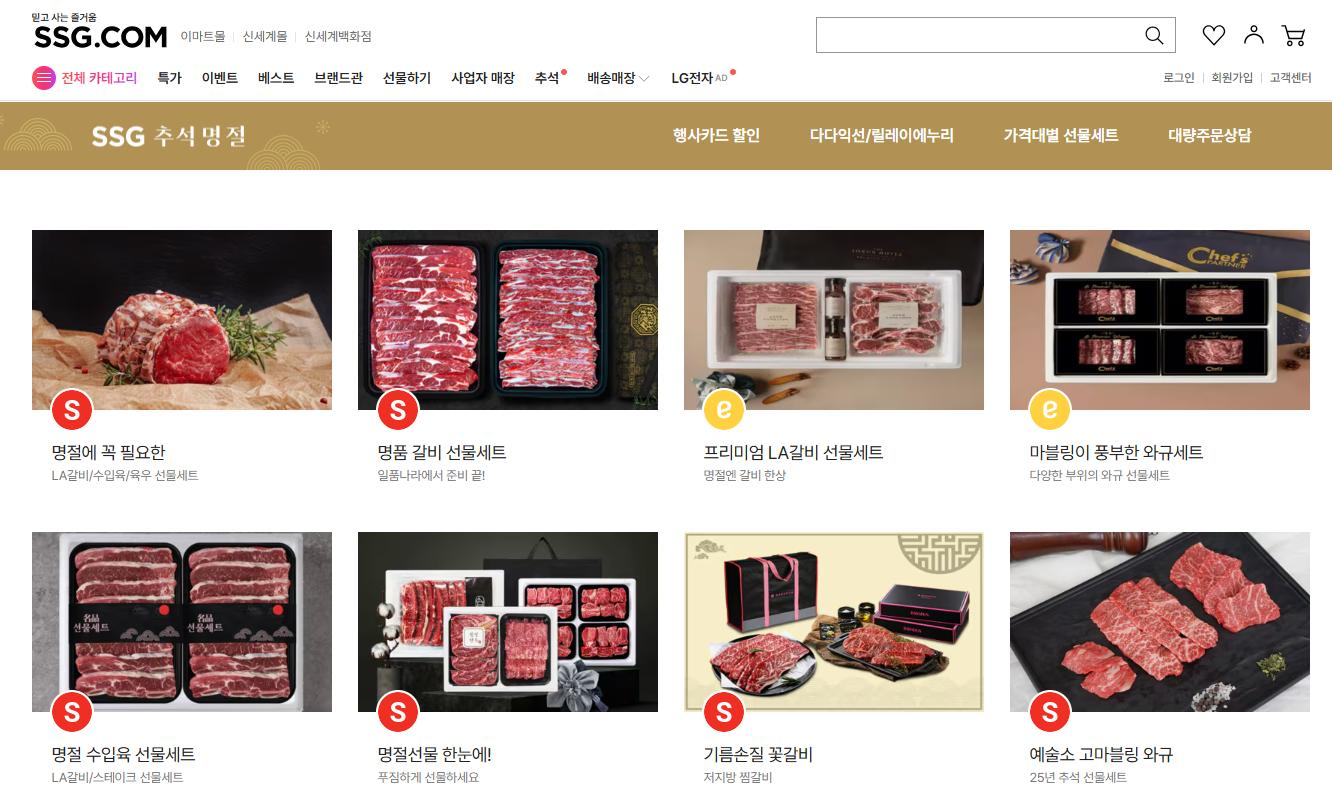button: (806, 123, 962, 153), (1003, 120, 1127, 150), (1160, 123, 1263, 151), (669, 121, 765, 151), (668, 62, 749, 90), (580, 65, 657, 91), (302, 27, 385, 50), (452, 69, 518, 93), (312, 64, 368, 91), (177, 23, 226, 50), (381, 67, 438, 89), (529, 67, 572, 93), (1277, 23, 1311, 53), (240, 27, 288, 46), (258, 65, 299, 87), (1238, 23, 1268, 50), (1201, 20, 1226, 49), (207, 71, 247, 89), (1159, 69, 1198, 86), (1269, 71, 1316, 85), (1213, 70, 1254, 85), (155, 69, 185, 87)
input_field: (811, 10, 1181, 59)
